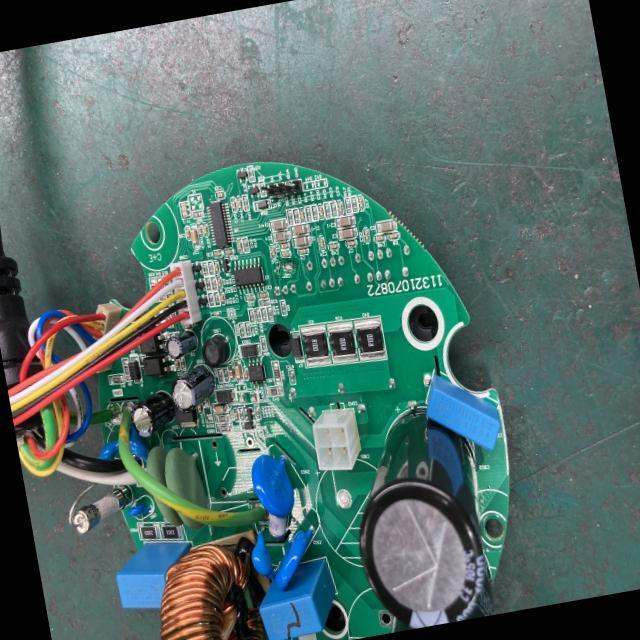damged: (279, 258, 300, 278)
